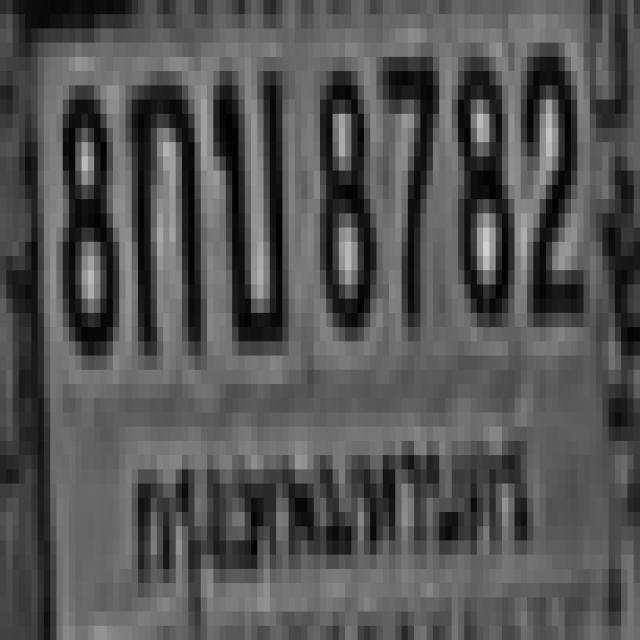10GorGai: (125, 71, 201, 341)
2: (521, 28, 577, 313)
35BorBaiMai: (210, 57, 286, 341)
7: (376, 43, 433, 327)
8: (56, 79, 113, 348), (314, 57, 370, 327), (452, 43, 508, 313)
Bangkok: (116, 415, 537, 629)
